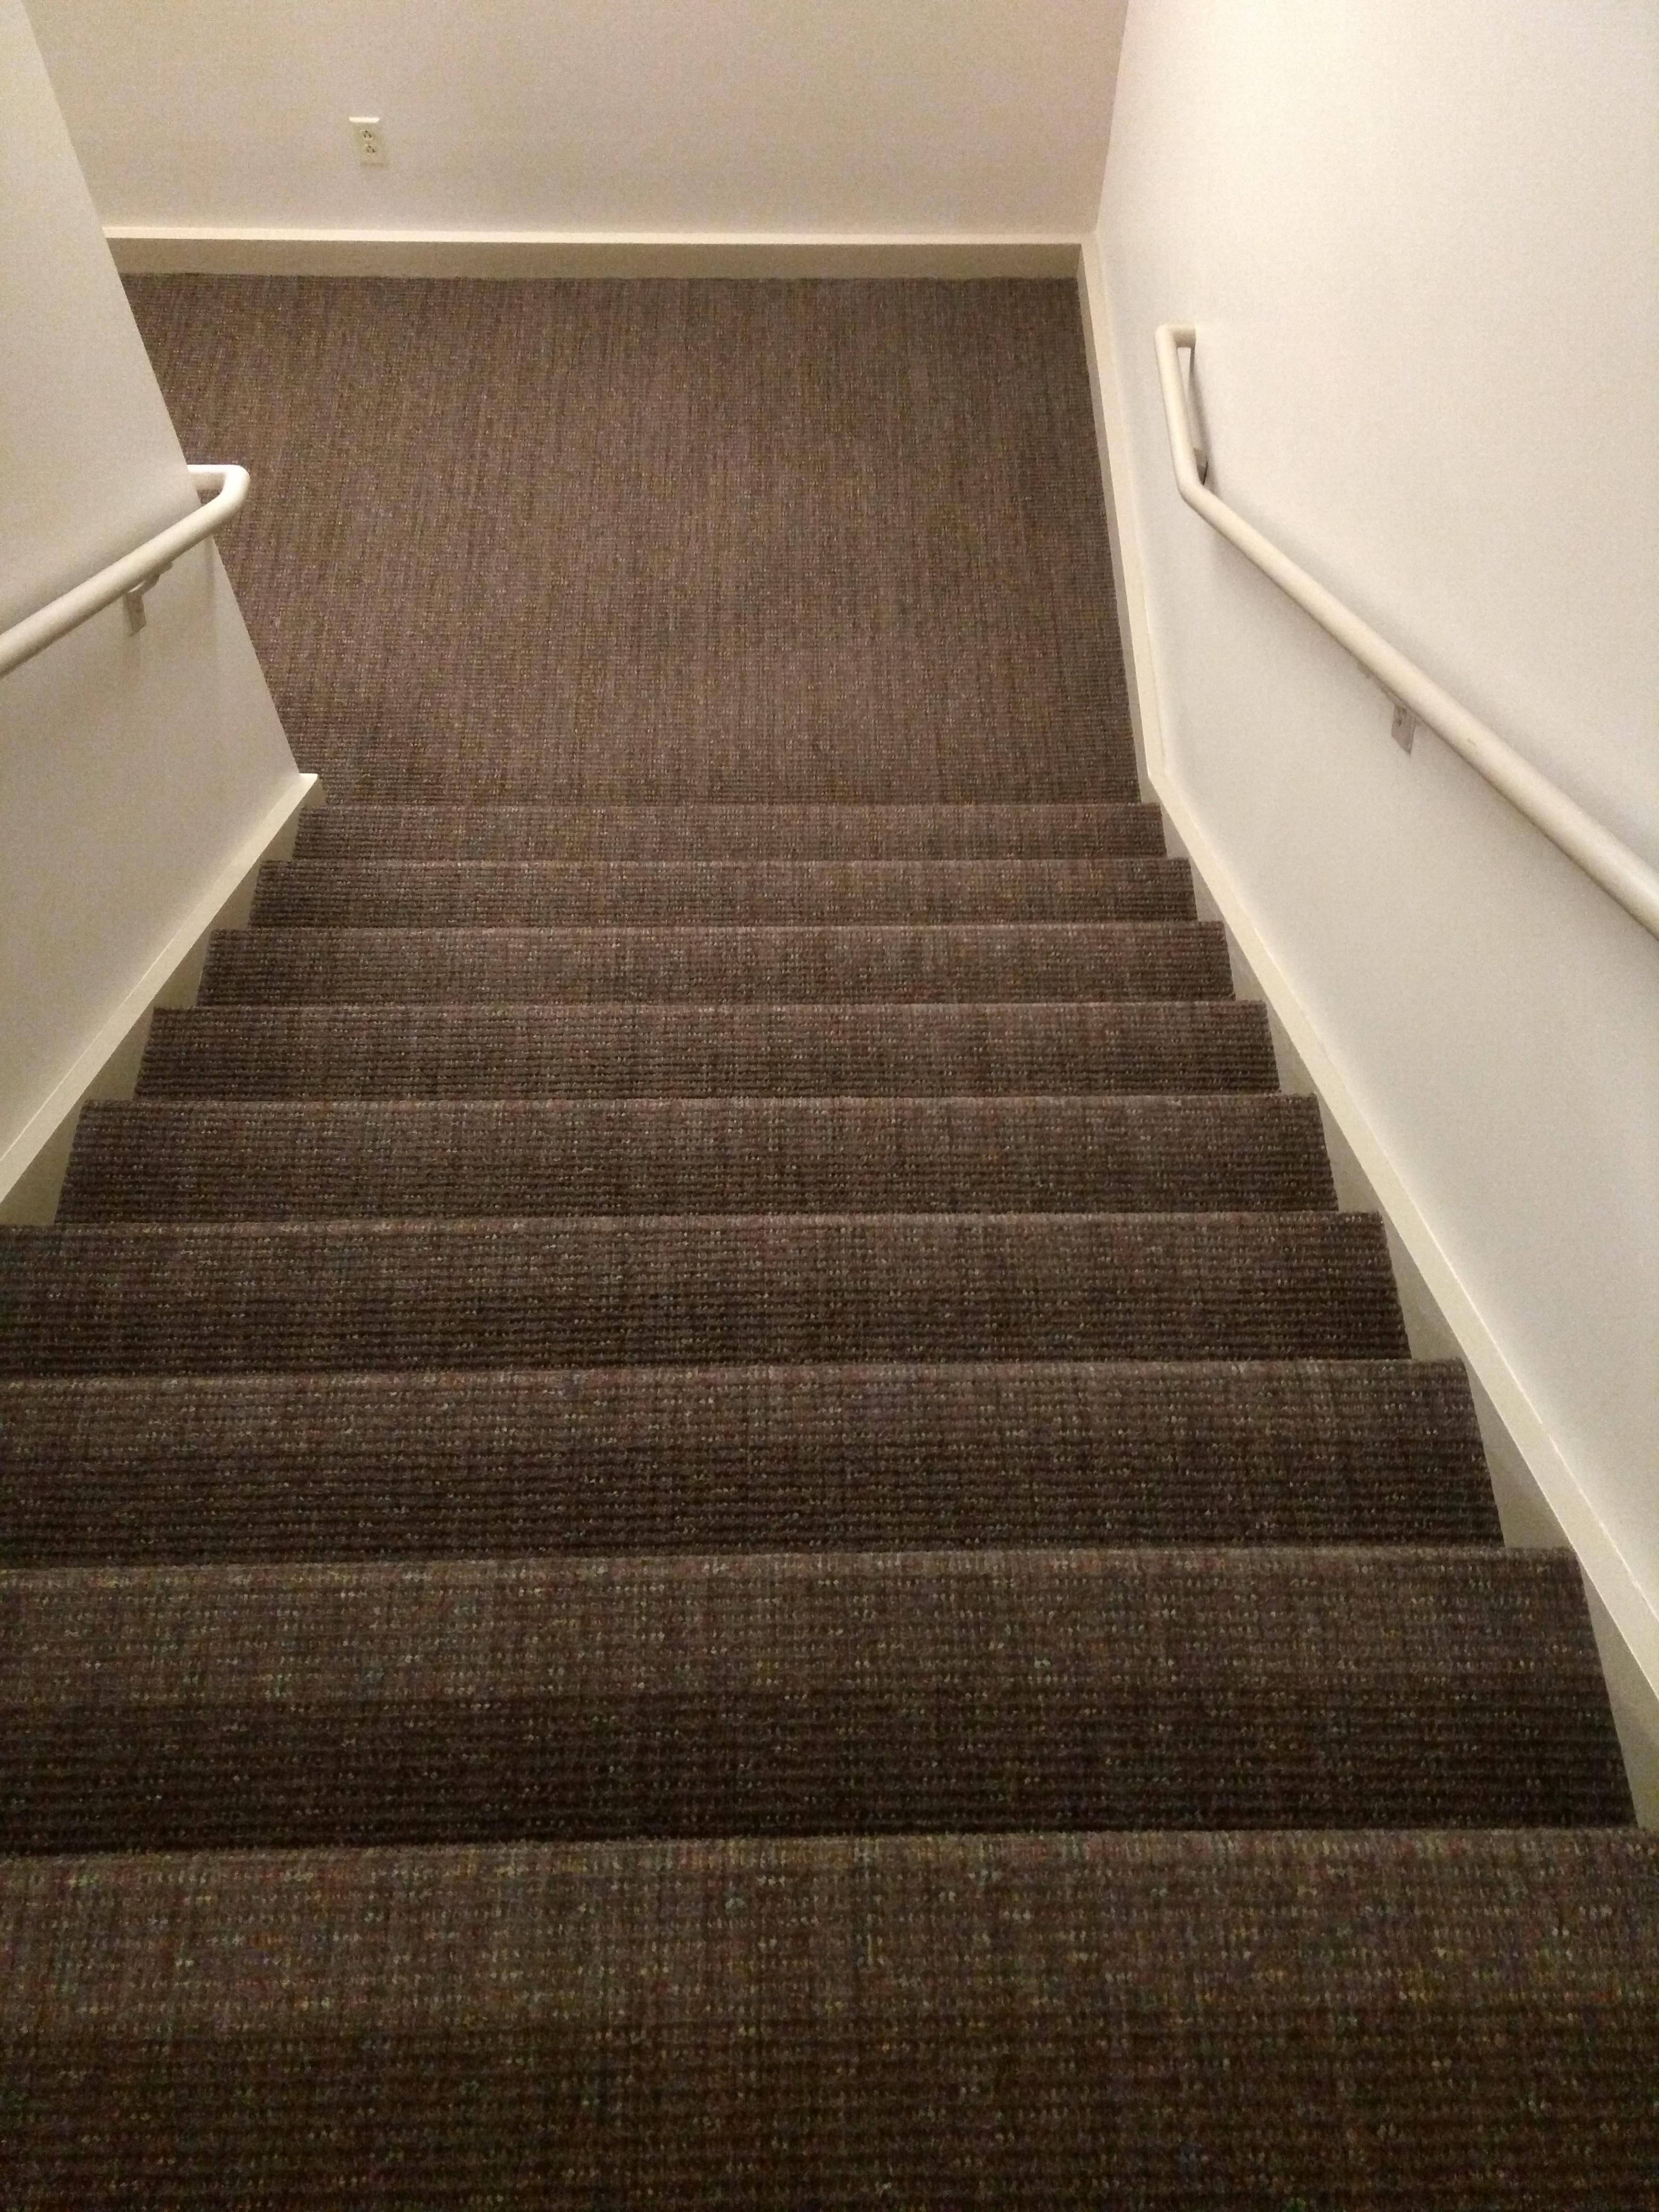stairs_down: (23, 773, 1659, 2212)
